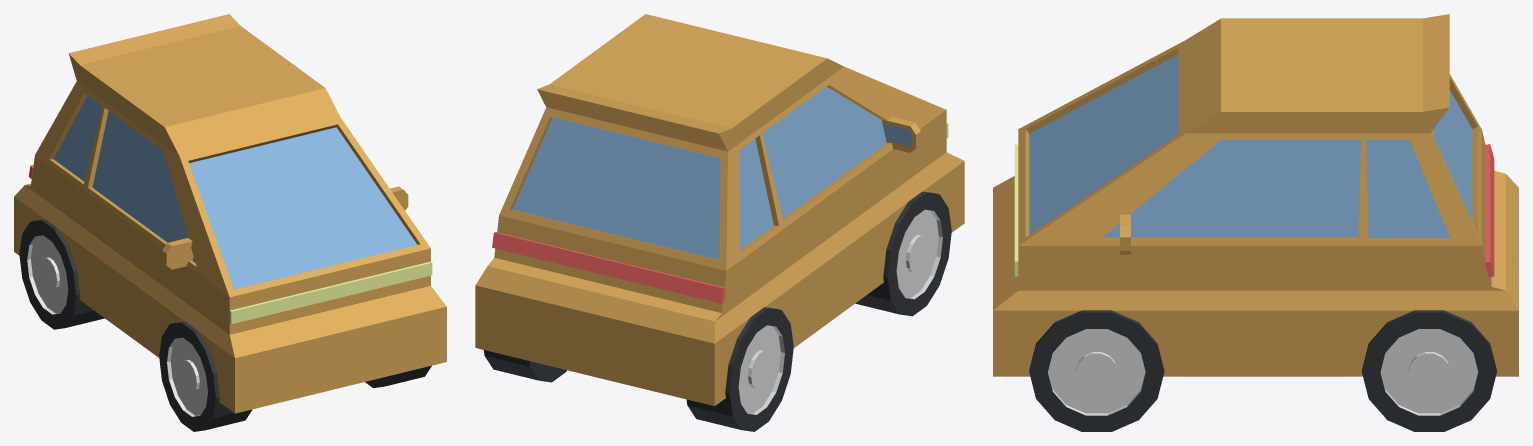
The model's file is car.glb.
3 views of the same model, side by side, from view 1: azimuth 30°, elevation 25°; view 2: azimuth 150°, elevation 25°; view 3: azimuth 270°, elevation 25° (orthographic). The views are drawn at different scales.
Parts seen in each view (by area): view 1: Cube, Cylinder.001, Cylinder.002, Cube.001, Cube.002; view 2: Cube, Cylinder.002, Cylinder.001, Cube.003, Cube.002; view 3: Cube, Cylinder.002, Cylinder.001, Cube.003, Cube.001.
Boxes of the visible parts, x1,y1,x2,y2 form: Cube: (14, 14, 446, 413); Cylinder.001: (159, 321, 431, 431); Cylinder.002: (19, 219, 104, 329); Cube.001: (229, 261, 432, 324); Cube.002: (162, 186, 408, 269); Cube: (475, 14, 964, 406); Cylinder.002: (483, 307, 793, 431); Cylinder.001: (855, 191, 951, 316); Cube.003: (492, 232, 725, 303); Cube.002: (881, 117, 920, 152); Cube: (993, 14, 1518, 376); Cylinder.002: (1362, 310, 1496, 431); Cylinder.001: (1029, 310, 1164, 431); Cube.003: (1485, 144, 1494, 277); Cube.001: (1014, 144, 1018, 276).
Size of the model in its own units: 2.4 by 2.45 by 3.8.
